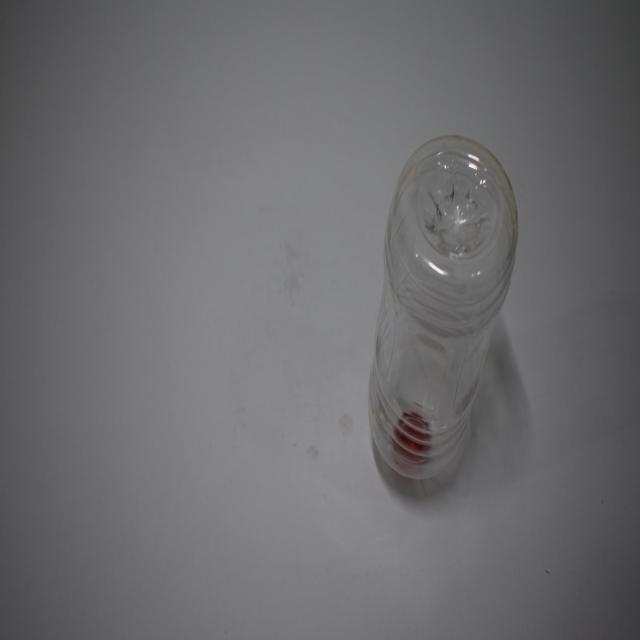empty: (369, 136, 518, 478)
